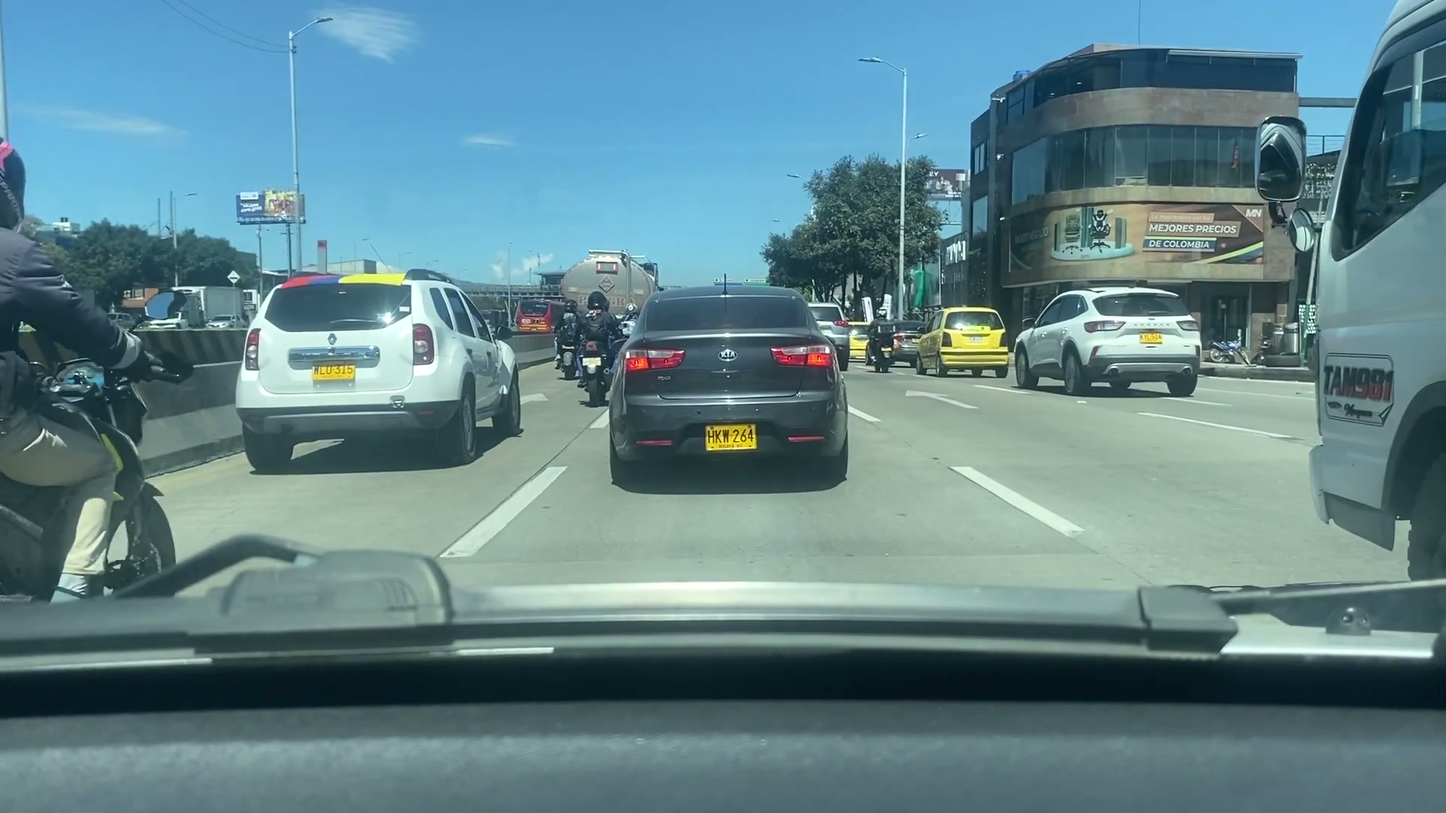car: (231, 272, 524, 472), (606, 285, 852, 482), (1013, 287, 1201, 399), (913, 305, 1009, 379), (804, 304, 852, 365), (889, 319, 926, 368), (846, 322, 870, 362)
motorcycle: (0, 344, 204, 613), (577, 342, 621, 398), (552, 337, 581, 383), (866, 336, 894, 373)
person: (0, 128, 166, 601), (579, 285, 620, 356), (869, 305, 895, 356), (555, 300, 579, 355)
truck: (1256, 0, 1446, 577)
